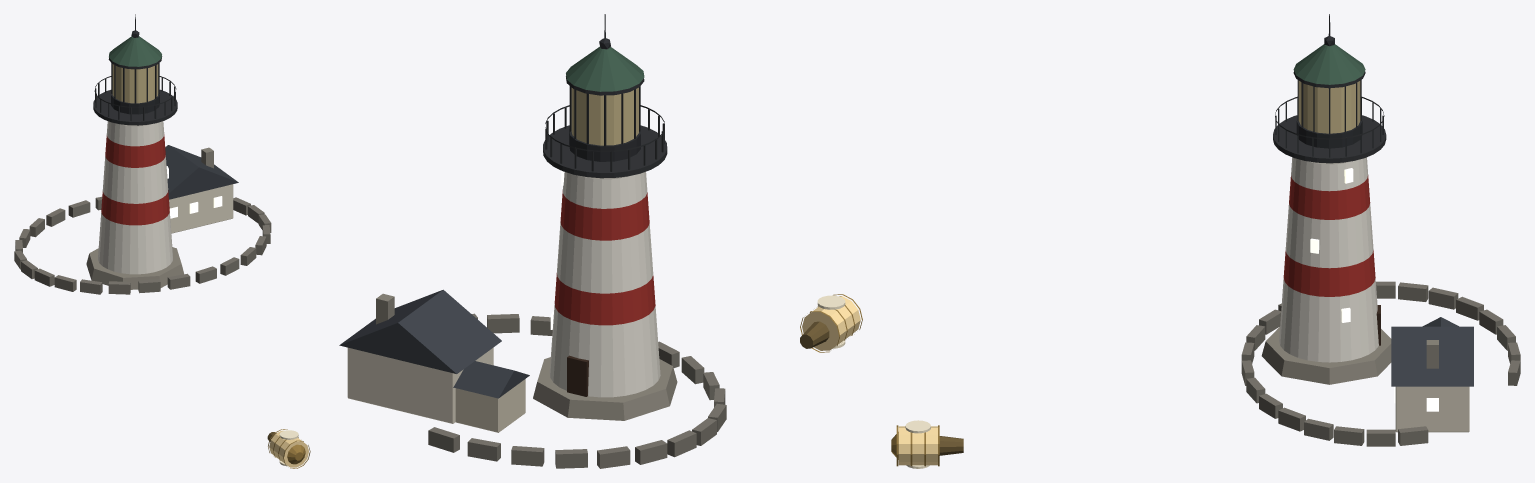
The model's file is lighthouse.fbx.
3 views of the same model, side by side, from view 1: azimuth 30°, elevation 25°; view 2: azimuth 150°, elevation 25°; view 3: azimuth 270°, elevation 25° (orthographic). The views are drawn at different scales.
Parts seen in each view (by area): view 1: Tower, Walls, Cottage, Tower0, Tower2, Tower1, Glazing, Tower3, LensMesh, Tower4; view 2: Cottage, Tower, Walls, Tower0, Tower2, Tower1, Glazing, Tower3, LensMesh, Tower4; view 3: Tower, Cottage, Walls, Tower0, Tower2, Tower1, Glazing, LensMesh, Tower3, Tower4.
Part boxes in pixels (x1,y1,x2,y2): Tower: (86, 14, 183, 289); Walls: (14, 196, 271, 294); Cottage: (165, 145, 238, 233); Tower0: (98, 211, 172, 274); Tower2: (102, 155, 168, 203); Tower1: (101, 190, 169, 225); Glazing: (112, 64, 158, 103); Tower3: (105, 134, 165, 167); LensMesh: (267, 429, 310, 468); Tower4: (106, 121, 164, 146); Cottage: (339, 289, 529, 432); Tower: (533, 14, 677, 420); Walls: (428, 313, 726, 468); Tower0: (549, 304, 660, 397); Tower2: (557, 221, 653, 293); Tower1: (554, 273, 655, 325); Glazing: (571, 87, 638, 145); Tower3: (560, 190, 649, 240); LensMesh: (800, 294, 862, 352); Tower4: (562, 171, 647, 208); Tower: (1261, 14, 1391, 384); Cottage: (1391, 317, 1473, 432); Walls: (1241, 281, 1520, 446); Tower0: (1279, 278, 1378, 362); Tower2: (1285, 203, 1373, 268); Tower1: (1283, 250, 1375, 296); Glazing: (1298, 80, 1360, 133); LensMesh: (891, 420, 963, 468); Tower3: (1289, 175, 1370, 219); Tower4: (1291, 157, 1368, 191).
Bounding box in the file's own units: 17.45 × 24.1 × 30.51.
